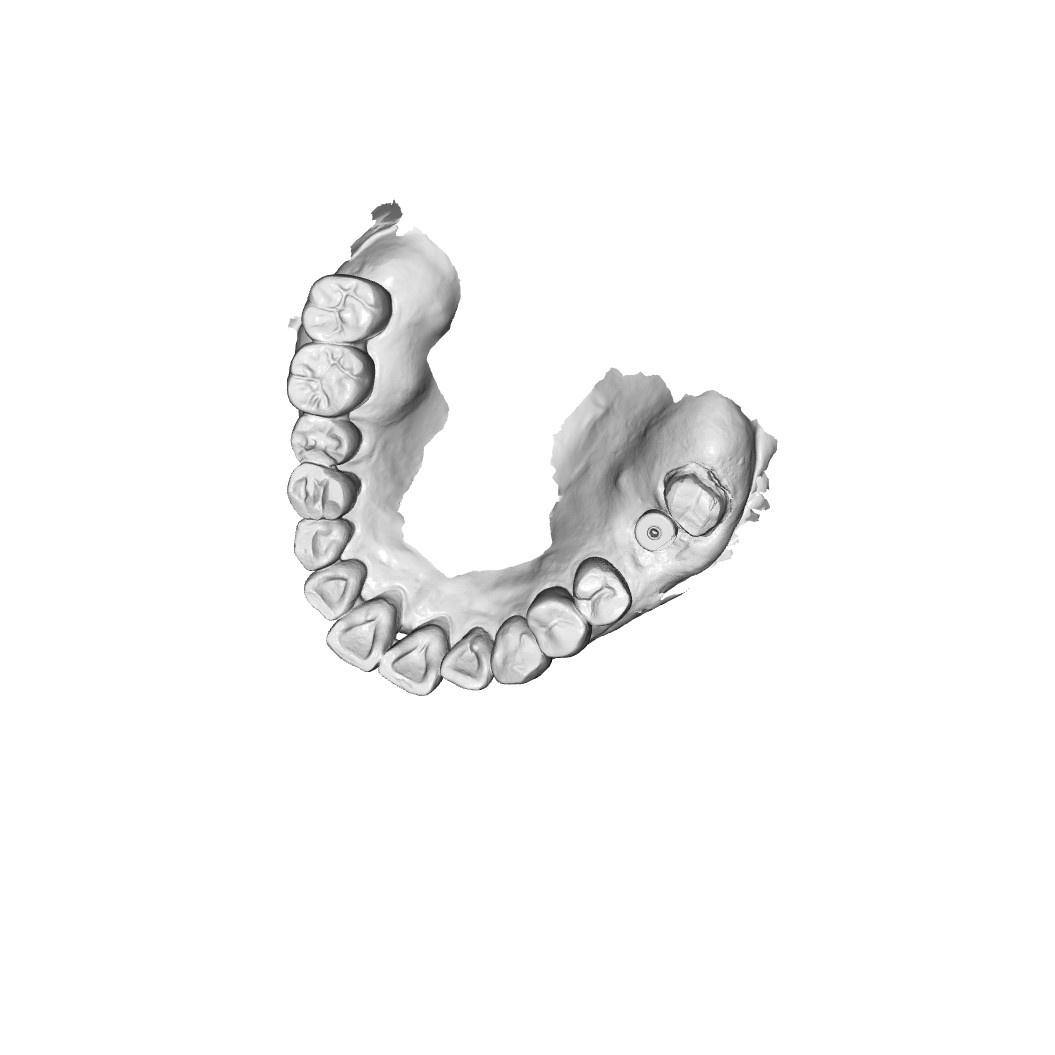canine: (485, 616, 549, 688), (292, 516, 358, 572)
crown: (661, 463, 730, 538)
implant: (634, 511, 676, 554)
incisor: (324, 598, 394, 675), (374, 627, 444, 697), (434, 624, 497, 694), (302, 557, 368, 618)
molar: (285, 343, 379, 419), (300, 273, 394, 346)
premolar: (524, 583, 593, 661), (570, 553, 632, 630), (288, 461, 363, 520), (288, 411, 365, 466)
